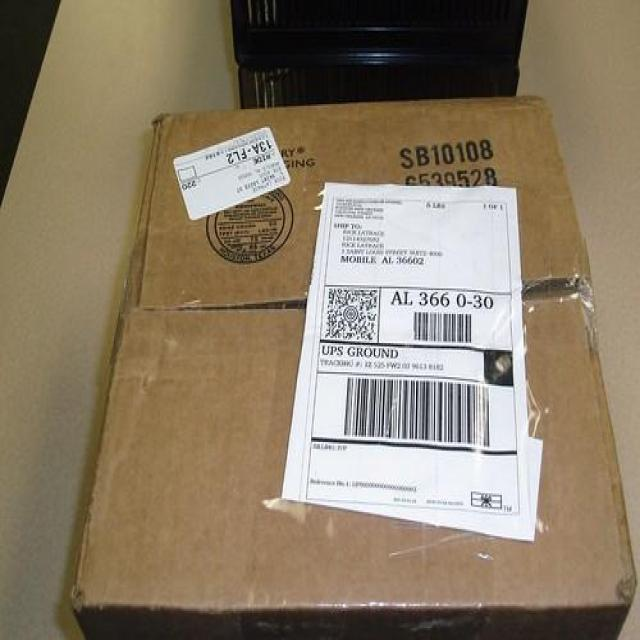cardboard: (70, 92, 638, 640)
